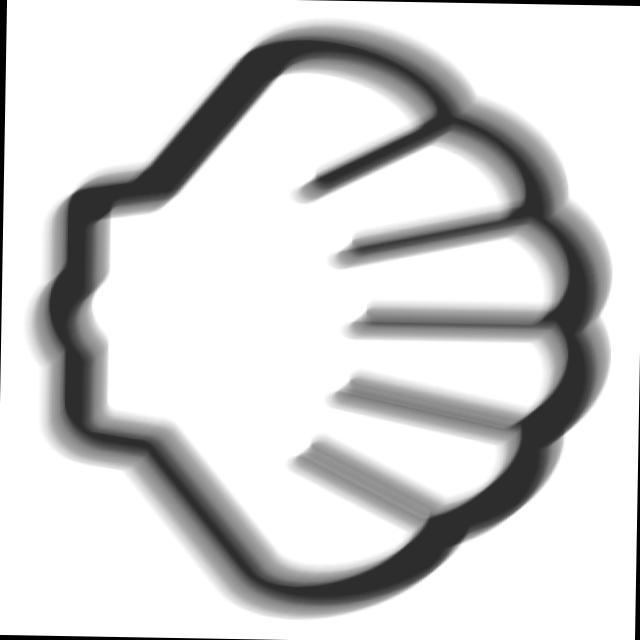shell: (2, 3, 629, 631)
